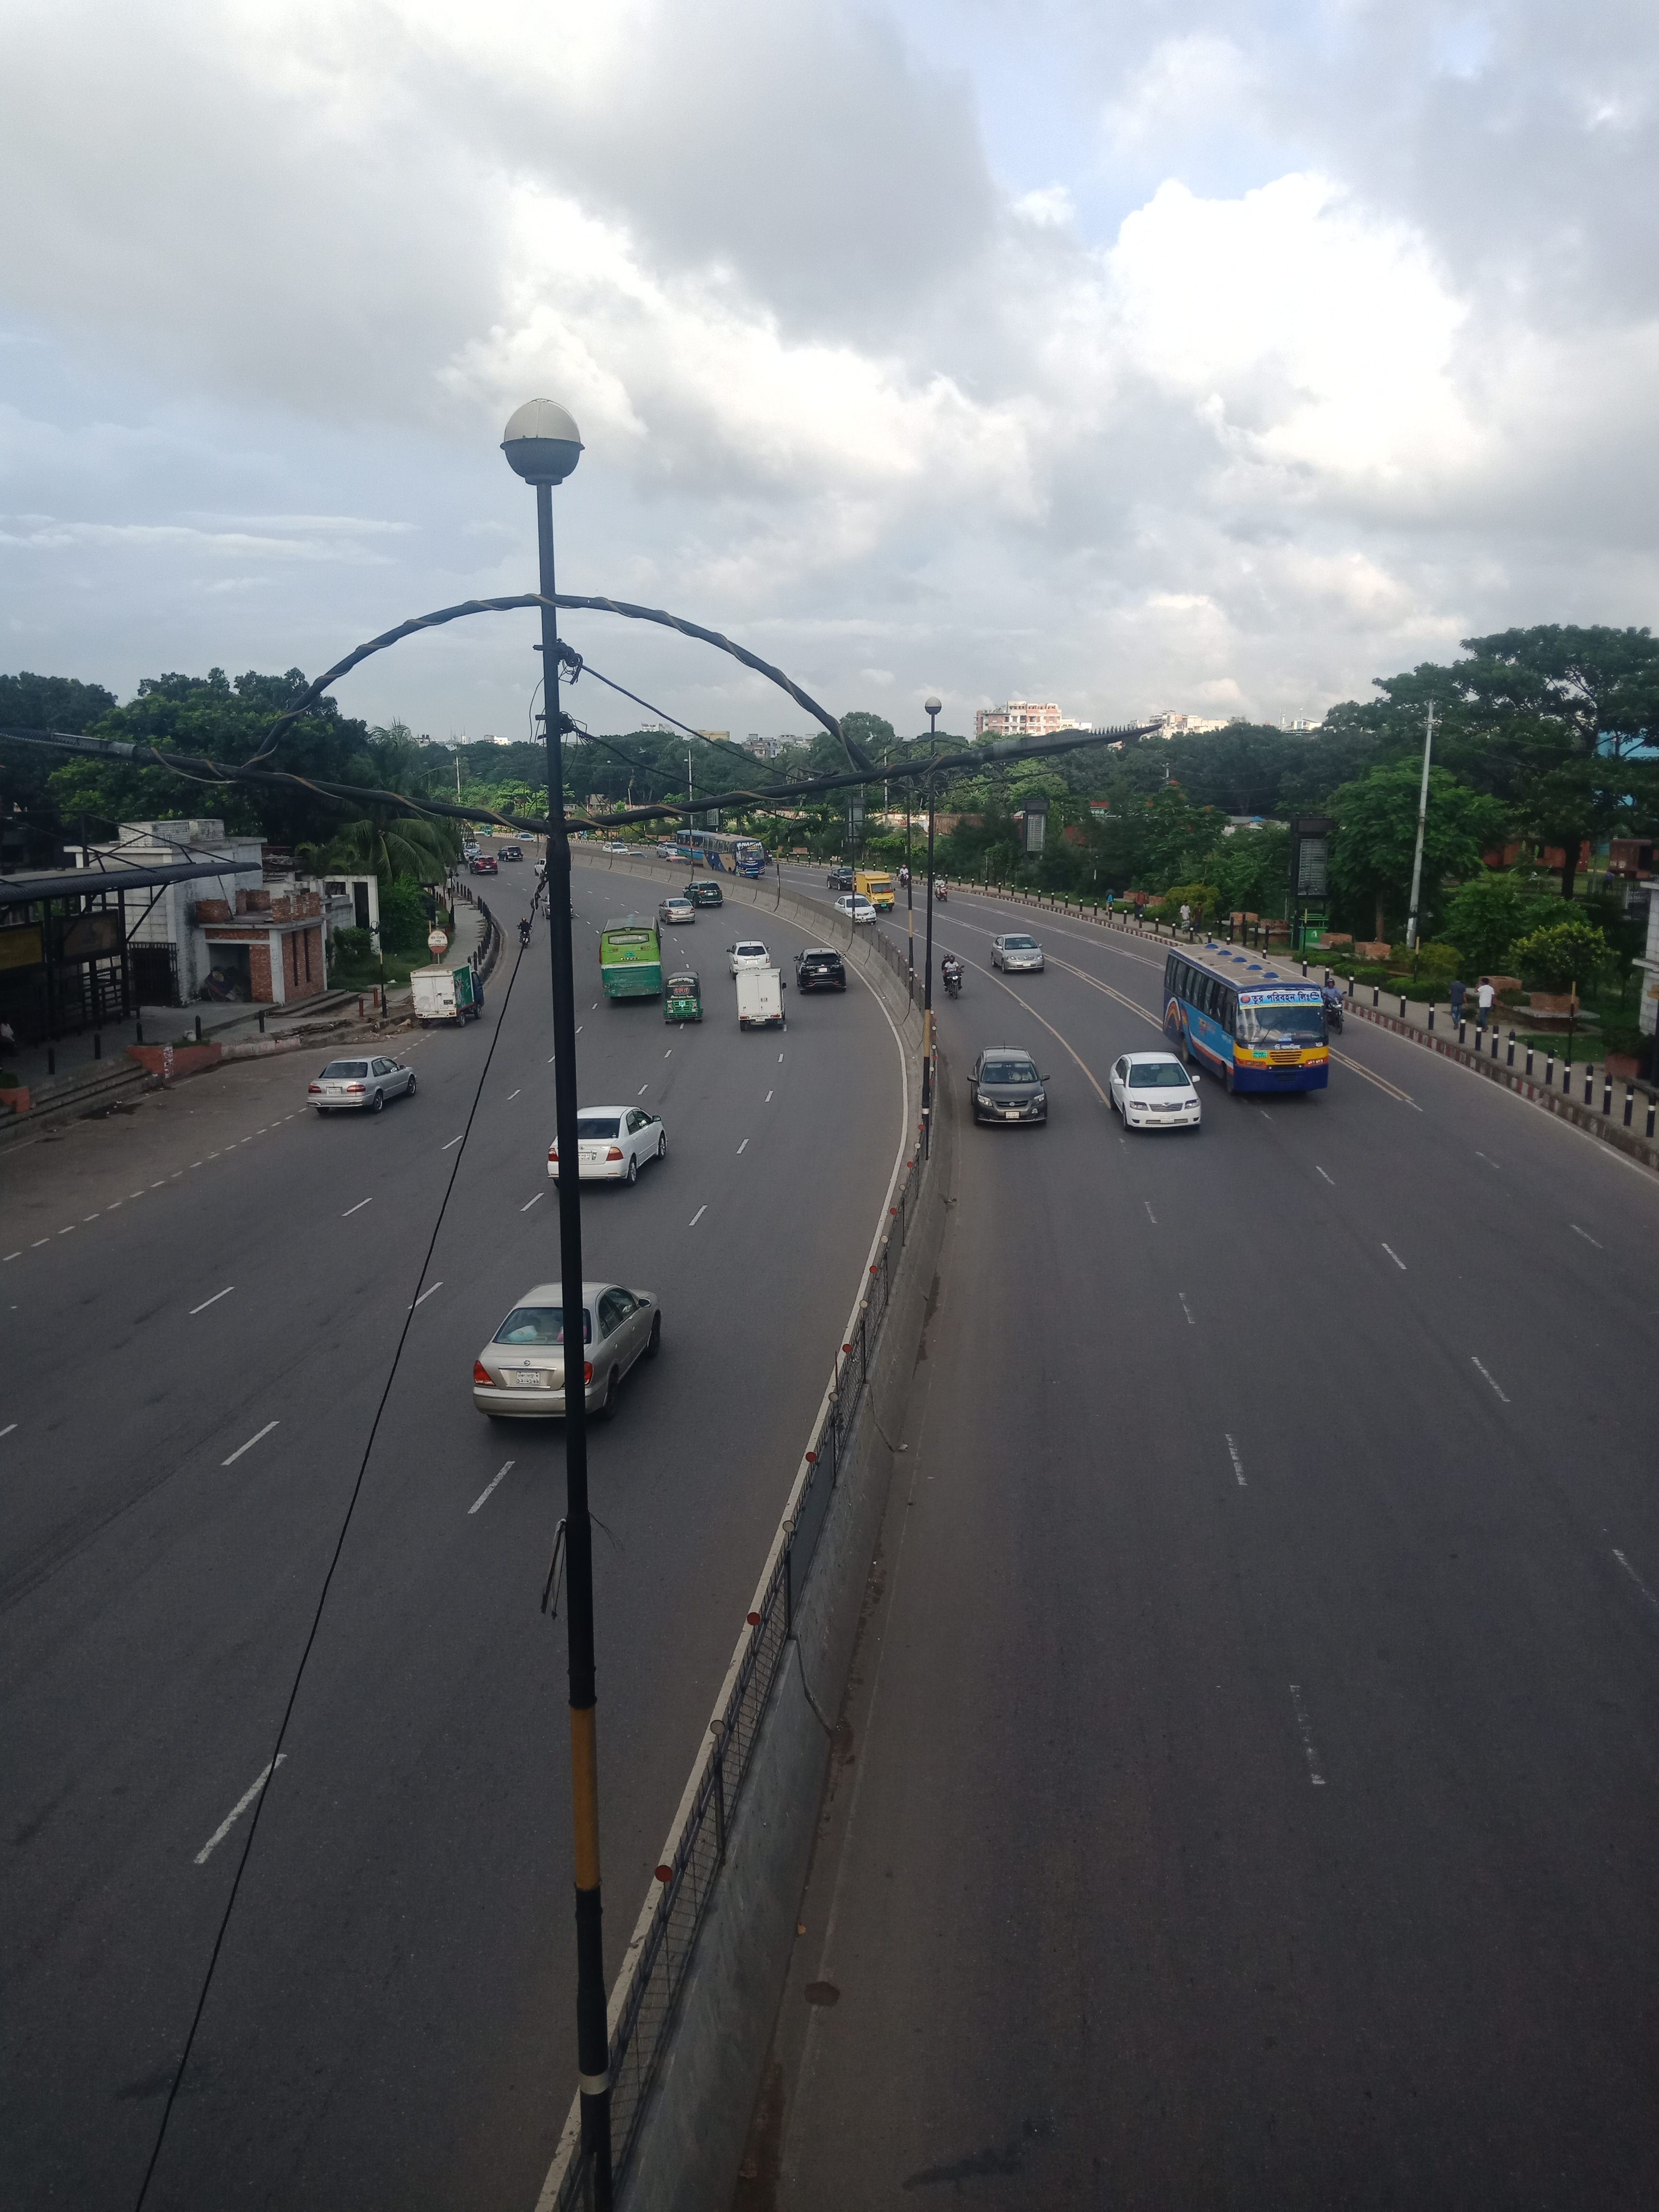bike: (939, 953, 967, 995)
bus: (1166, 930, 1333, 1101), (599, 913, 666, 1008)
car: (465, 1275, 671, 1420), (542, 1108, 671, 1193), (1103, 1049, 1208, 1136), (308, 1055, 415, 1122), (971, 1047, 1049, 1125), (992, 927, 1053, 988), (791, 946, 850, 995), (671, 878, 716, 923)
cng: (662, 963, 702, 1035)
truck: (408, 963, 486, 1035)
